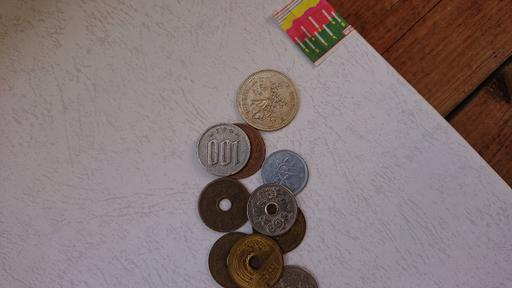100yen: (198, 125, 250, 176)
10yen: (208, 232, 263, 287), (213, 122, 265, 179), (258, 265, 317, 287)
1yen: (261, 149, 308, 198)
500yen: (237, 69, 300, 131)
50yen: (247, 184, 297, 236)
5yen: (227, 234, 284, 288), (198, 178, 251, 233)
